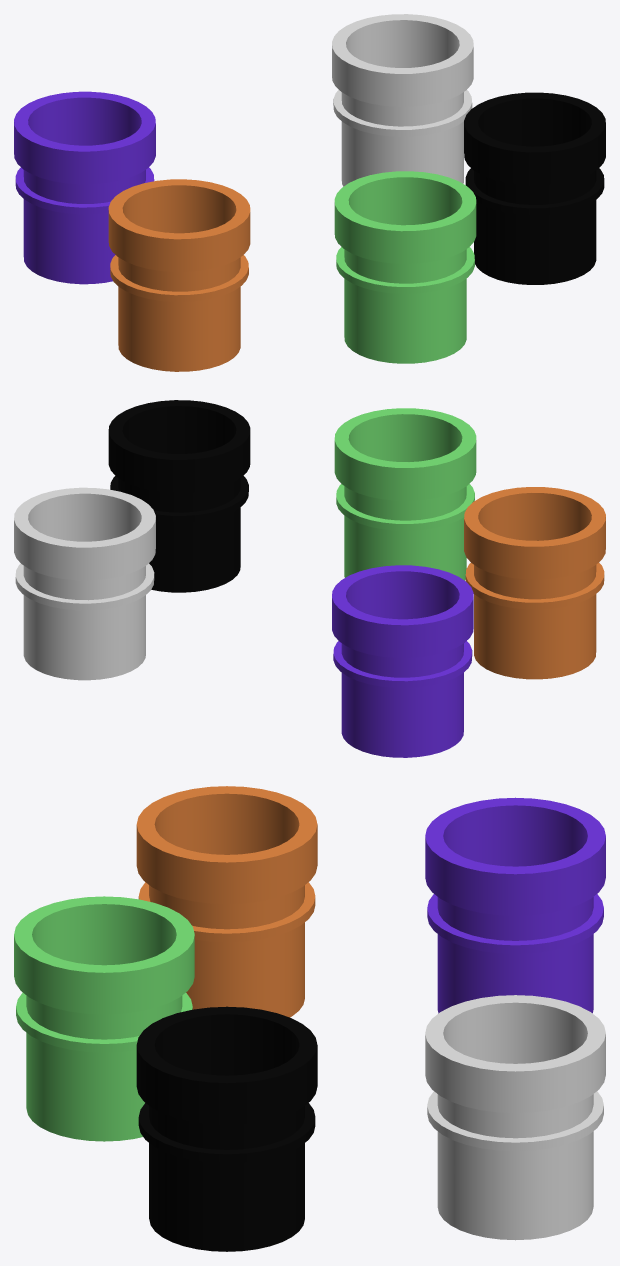
Rendered from storyboard_Contenedores.fbx.
The picture shows the model from 3 angles, top to bottom: view 1: azimuth 30°, elevation 25°; view 2: azimuth 150°, elevation 25°; view 3: azimuth 270°, elevation 25°; orthographic projection. The views are drawn at different scales.
Visible parts, largest first — view 1: Tube.003, Tube.004, Tube.001, Tube.002, Tube.005; view 2: Tube.002, Tube.005, Tube.003, Tube.001, Tube.004; view 3: Tube.002, Tube.001, Tube.004, Tube.005, Tube.003.
Part boxes in pixels (bbox=[...]): Tube.003: bbox=[108, 179, 250, 371]; Tube.004: bbox=[334, 171, 476, 363]; Tube.001: bbox=[464, 92, 605, 284]; Tube.002: bbox=[332, 14, 473, 186]; Tube.005: bbox=[14, 91, 155, 284]; Tube.002: bbox=[14, 487, 155, 680]; Tube.005: bbox=[332, 565, 473, 757]; Tube.003: bbox=[464, 487, 605, 679]; Tube.001: bbox=[108, 400, 250, 592]; Tube.004: bbox=[334, 408, 476, 580]; Tube.002: bbox=[425, 995, 605, 1240]; Tube.001: bbox=[136, 1006, 317, 1251]; Tube.004: bbox=[14, 896, 194, 1141]; Tube.005: bbox=[425, 797, 605, 1013]; Tube.003: bbox=[136, 786, 317, 1017].
Size of the model in its own units: 281 by 76.67 by 237.
